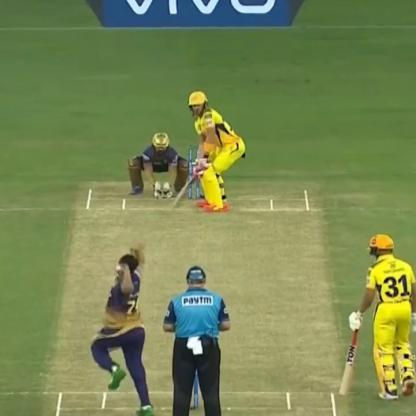ball: (111, 258, 123, 275)
bat: (172, 162, 216, 207)
pitch: (40, 170, 352, 416)
